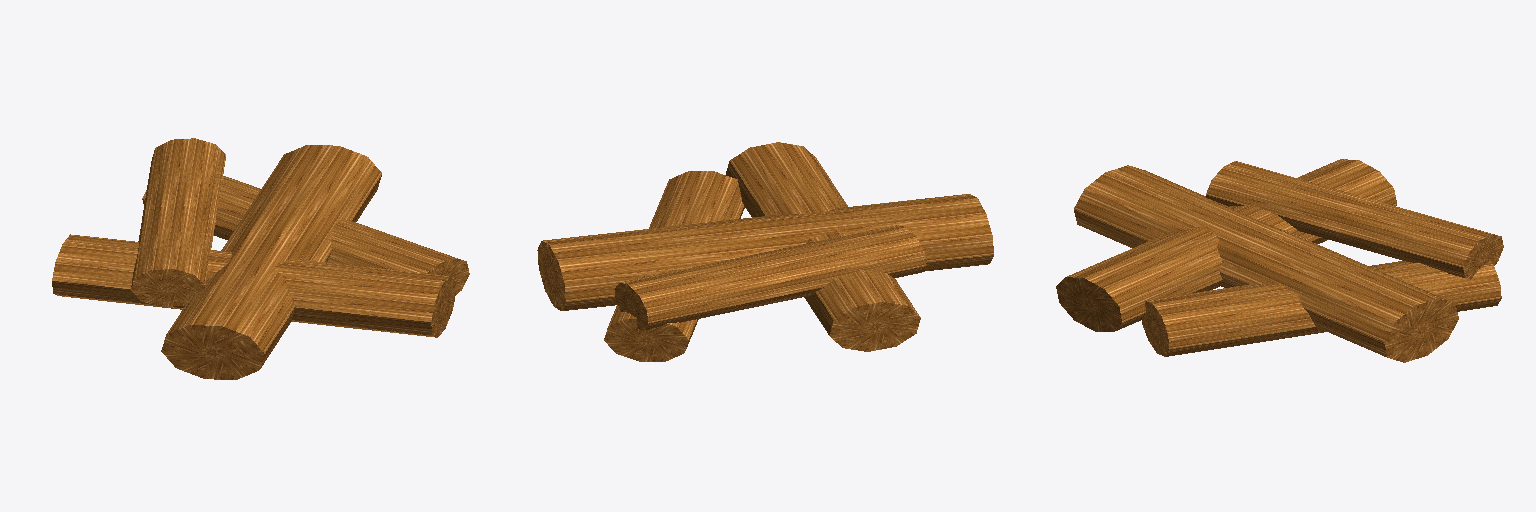
3 views of the same model, side by side, from view 1: azimuth 30°, elevation 25°; view 2: azimuth 150°, elevation 25°; view 3: azimuth 270°, elevation 25° (orthographic).
Visible parts, largest first — view 1: Cylinder_Cylinder; view 2: Cylinder_Cylinder; view 3: Cylinder_Cylinder.
Part boxes in pixels (x1,y1,x2,y2): Cylinder_Cylinder: (52,138,469,379); Cylinder_Cylinder: (537,142,993,361); Cylinder_Cylinder: (1056,159,1503,362).
Size of the model in its own units: 8.96 by 1.67 by 9.73.
Materials: 1 (1 with a texture image).